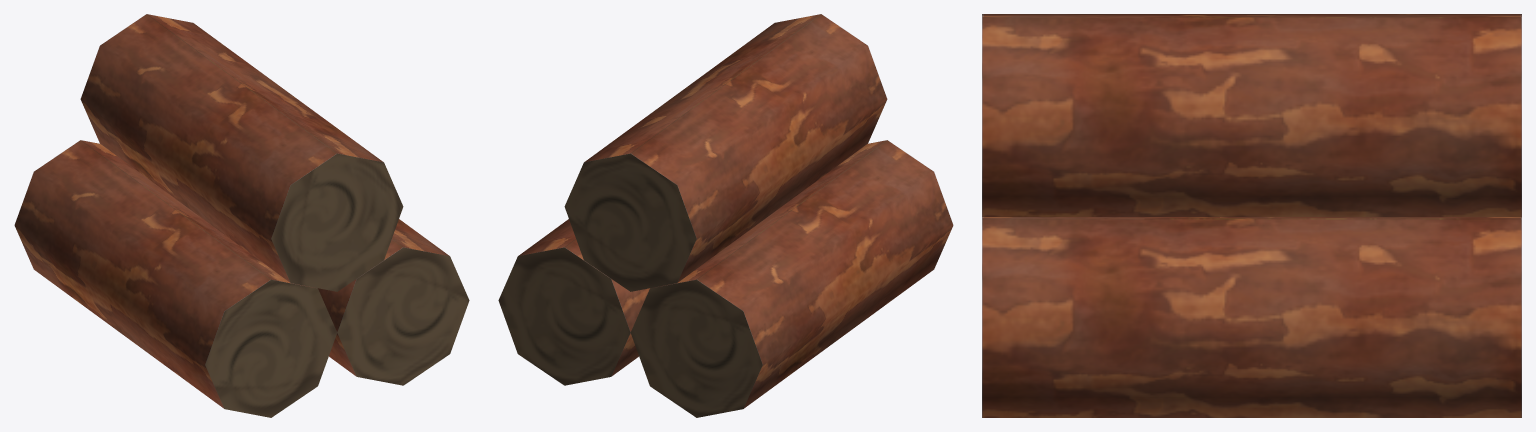
The model's file is MapleDrop.fbx.
3 views of the same model, side by side, from view 1: azimuth 30°, elevation 25°; view 2: azimuth 150°, elevation 25°; view 3: azimuth 270°, elevation 25° (orthographic). The views are drawn at different scales.
Visible parts, largest first — view 1: MapleWood; view 2: MapleWood; view 3: MapleWood.
Part boxes in pixels (x1,y1,x2,y2): MapleWood: [14, 14, 469, 417]; MapleWood: [498, 14, 953, 417]; MapleWood: [982, 14, 1521, 417].
Bounding box in the file's own units: 40 × 35.9 × 50.
